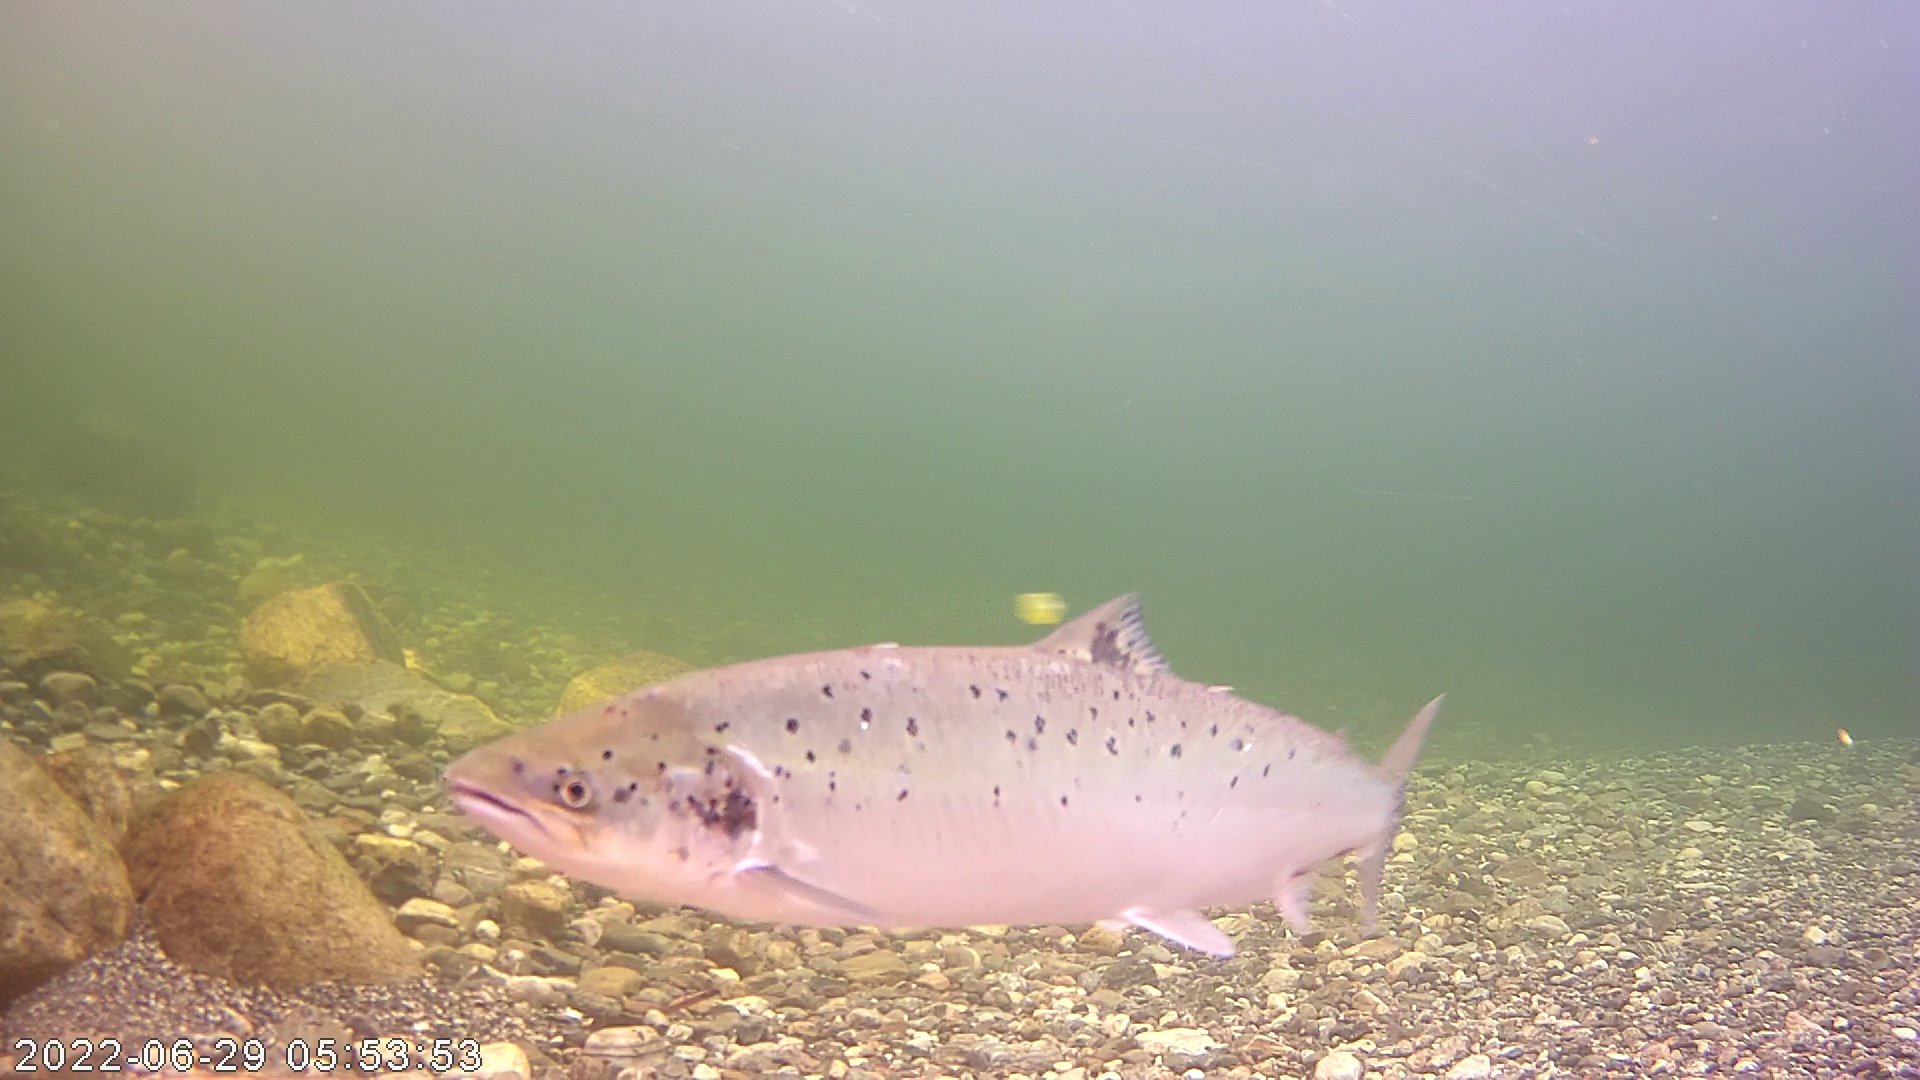salmon: (448, 505, 1425, 945)
